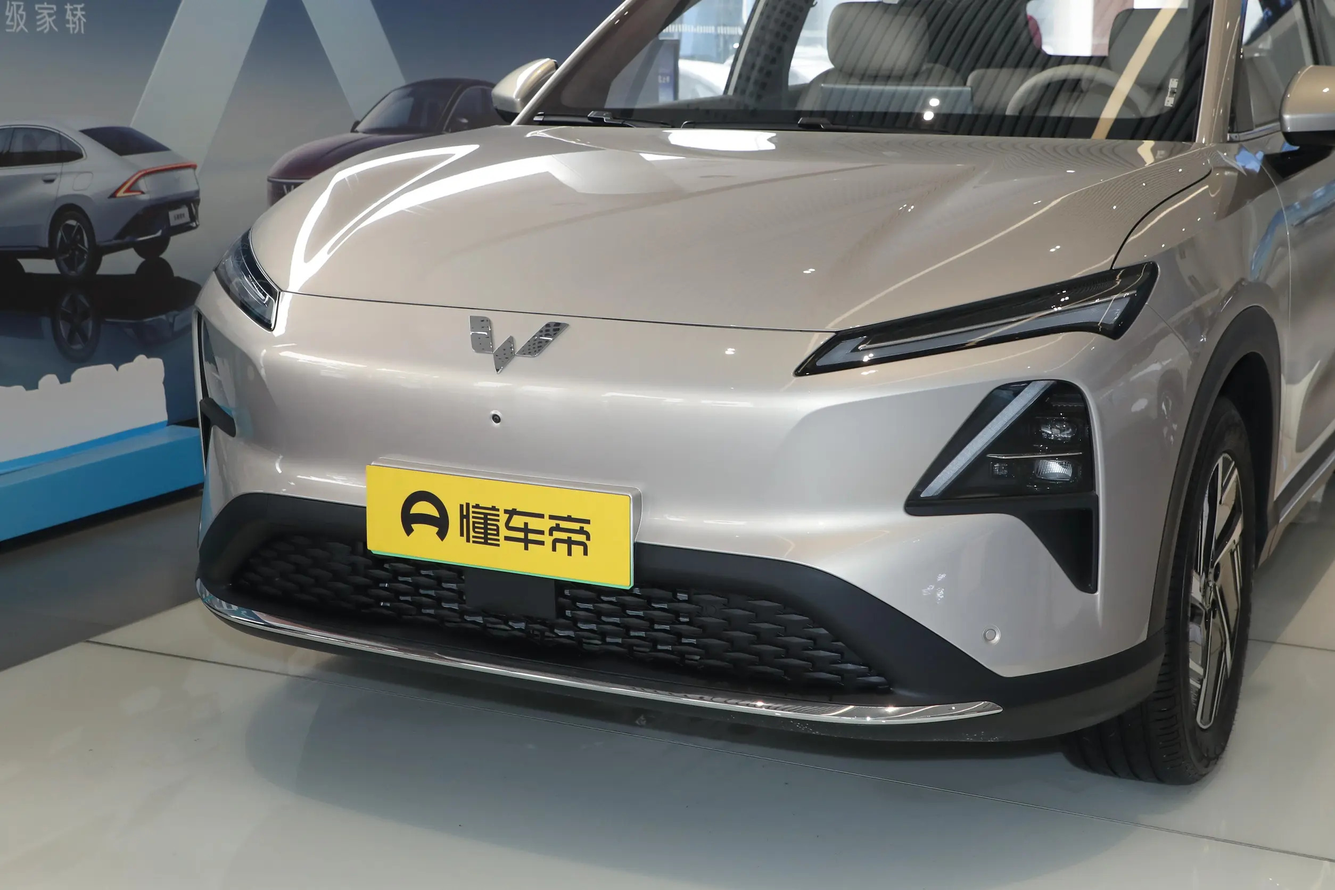SGMW: (469, 315, 568, 373)
